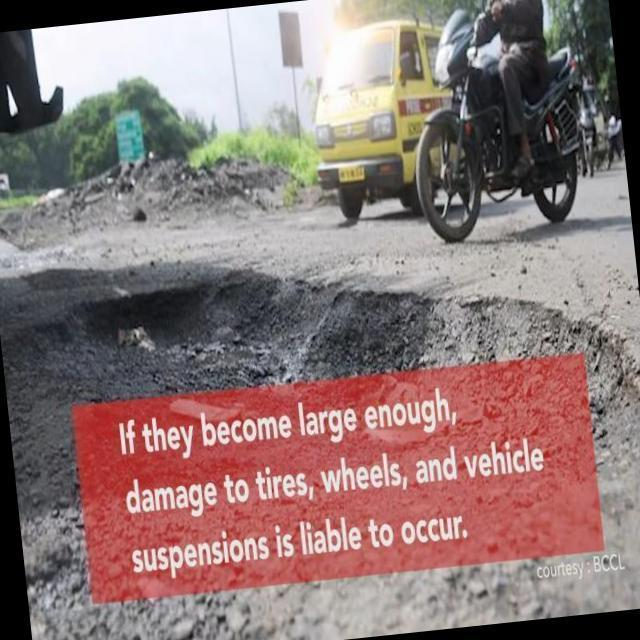Pothole: (29, 281, 623, 531)
